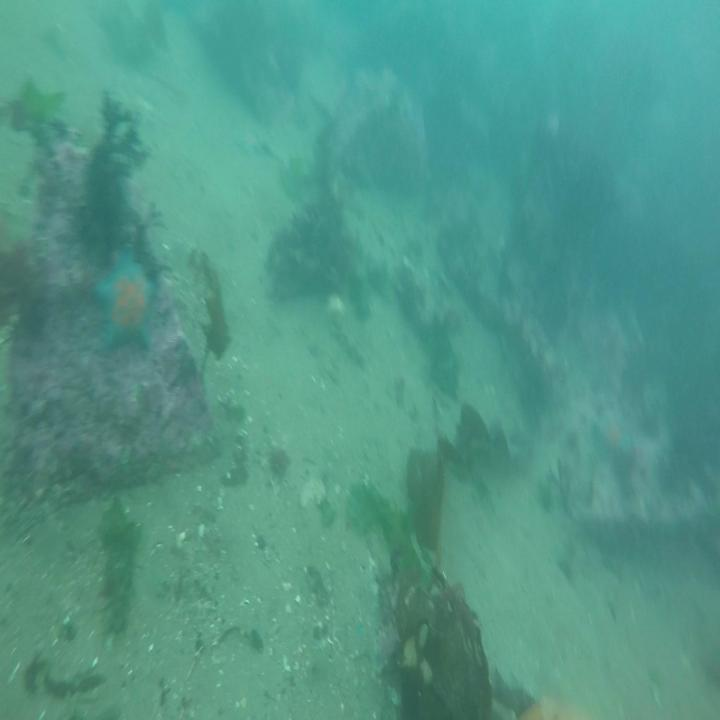holothurian: (373, 615, 402, 677)
starfish: (90, 246, 159, 357), (592, 397, 634, 472)
